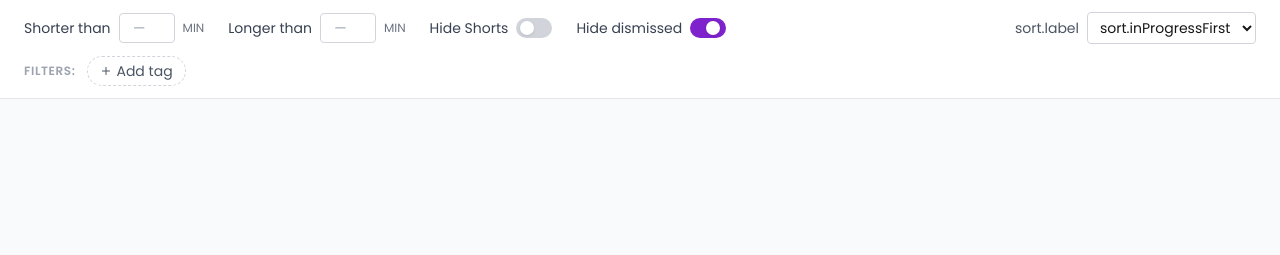
Test case: FilterButtons — Tag filter pills › clicking + Add tag shows dropdown with available tags
The width and height of the screenshot is (1280, 255).
Step 1. Click the button "Add tag" → {"x": 137, "y": 71}, box [88, 56, 186, 86]
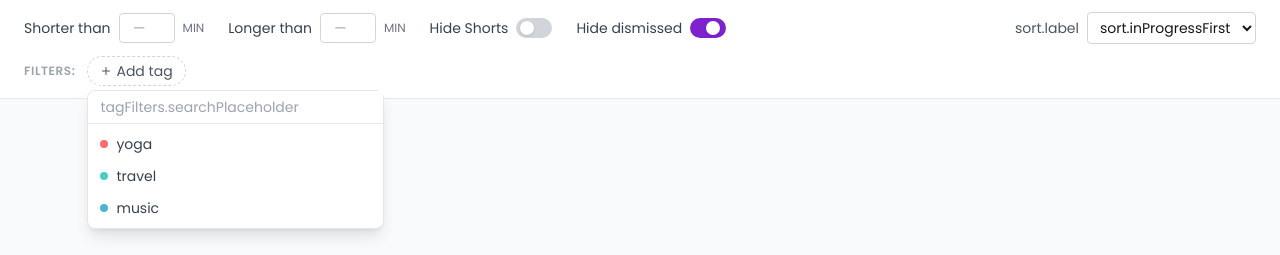
Check: the menu item "yoga" is shown, box [88, 128, 384, 160]
Check: the menu item "travel" is shown, box [88, 160, 384, 192]
